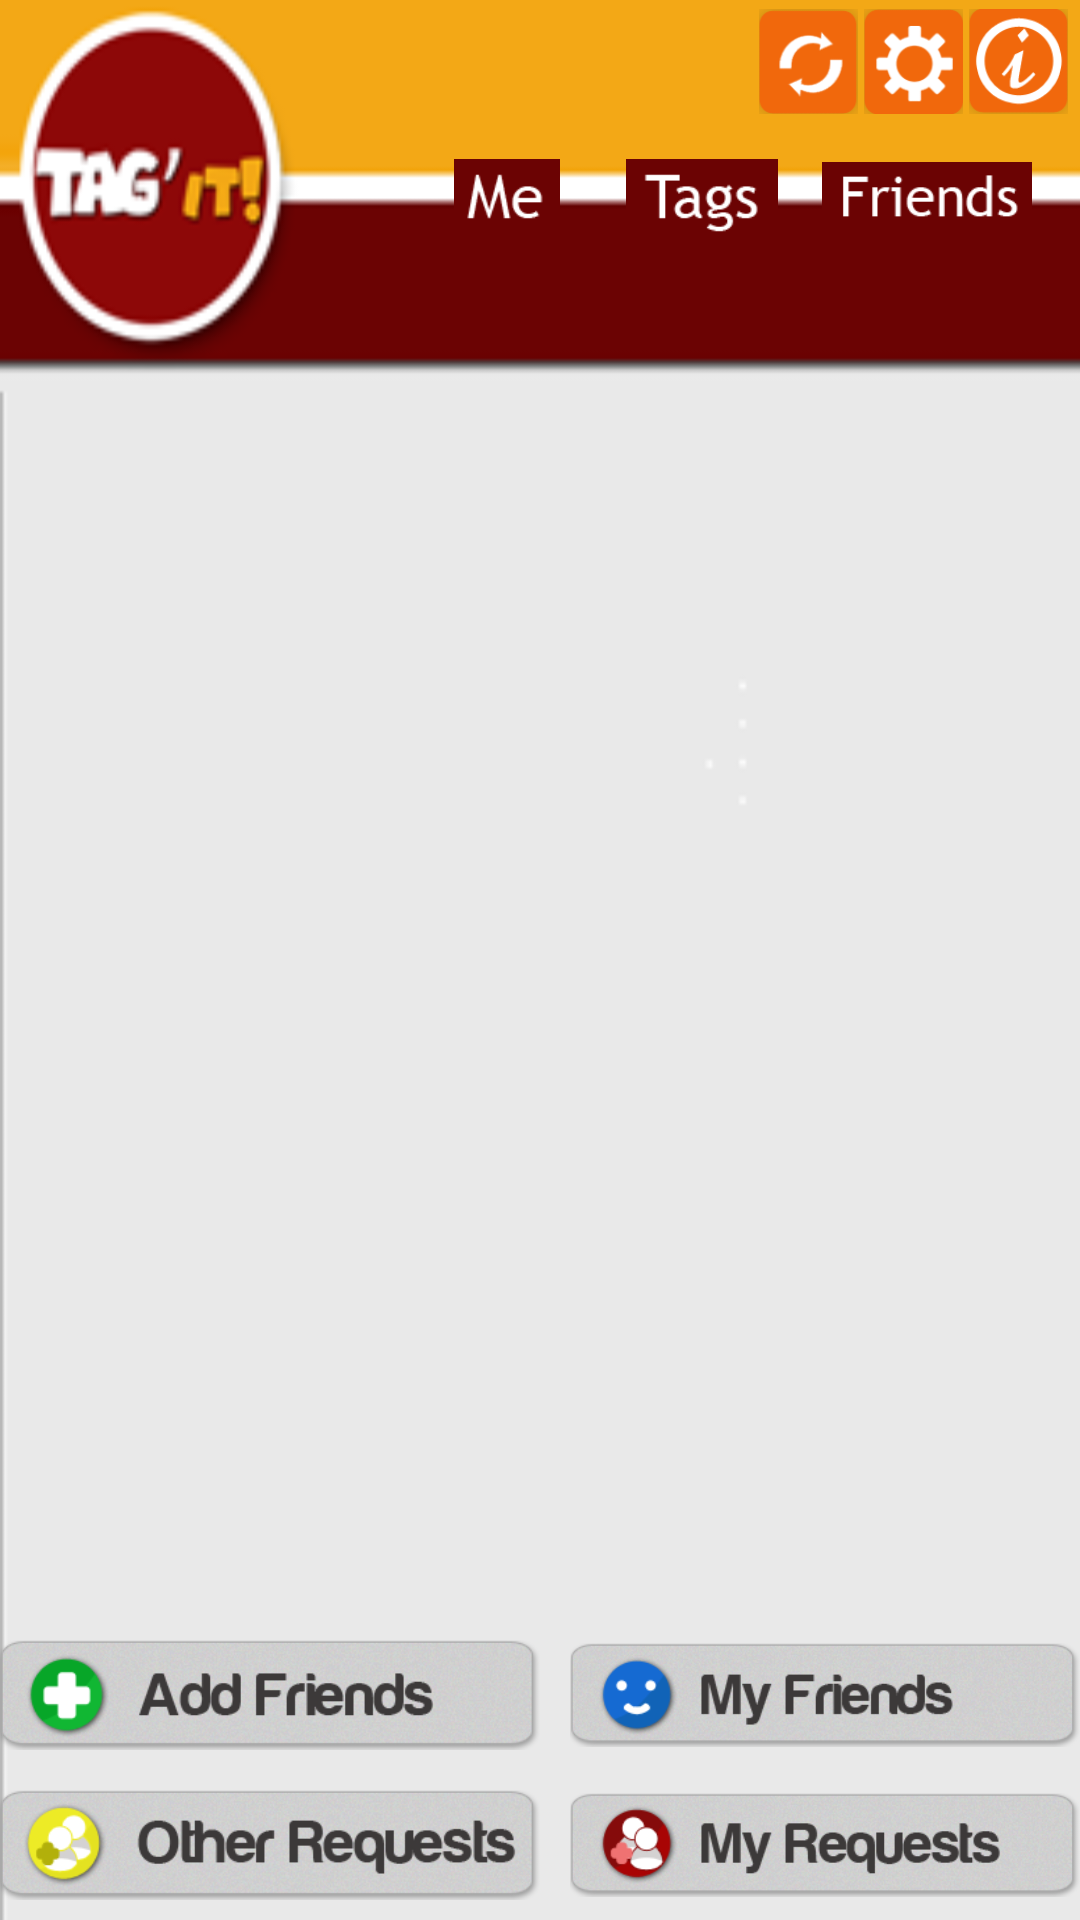

Screen size 1080 x 1920. Icon name, then its center in pixels as (x=x, y=y):
about us: (x=1018, y=61)
setting: (x=913, y=61)
sync: (x=808, y=61)
